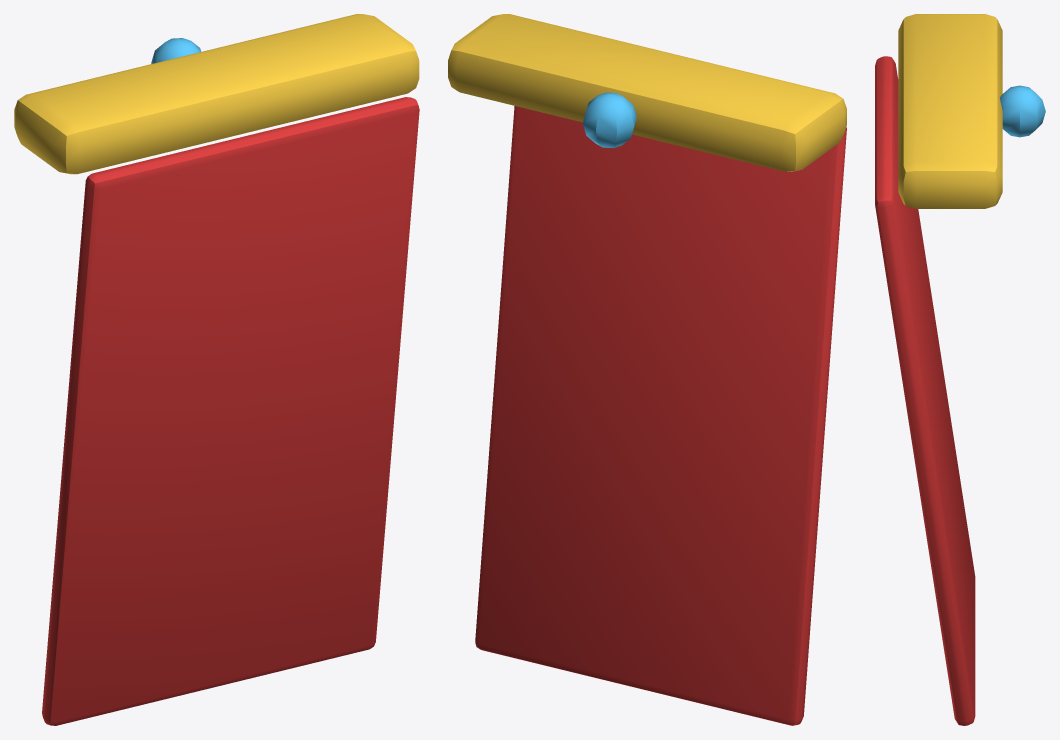
The model's file is AccCape.fbx.
3 renders of one model, left to right at view 1: azimuth 30°, elevation 25°; view 2: azimuth 150°, elevation 25°; view 3: azimuth 270°, elevation 25°, orthographic. The views are drawn at different scales.
Parts seen in each view (by area): view 1: AccCape; view 2: AccCape; view 3: AccCape.
Part boxes in pixels (<box>): AccCape: <box>14,14,419,725</box>; AccCape: <box>448,14,846,725</box>; AccCape: <box>875,14,1045,725</box>.
Size of the model in its own units: 220 by 361 by 98.47.
